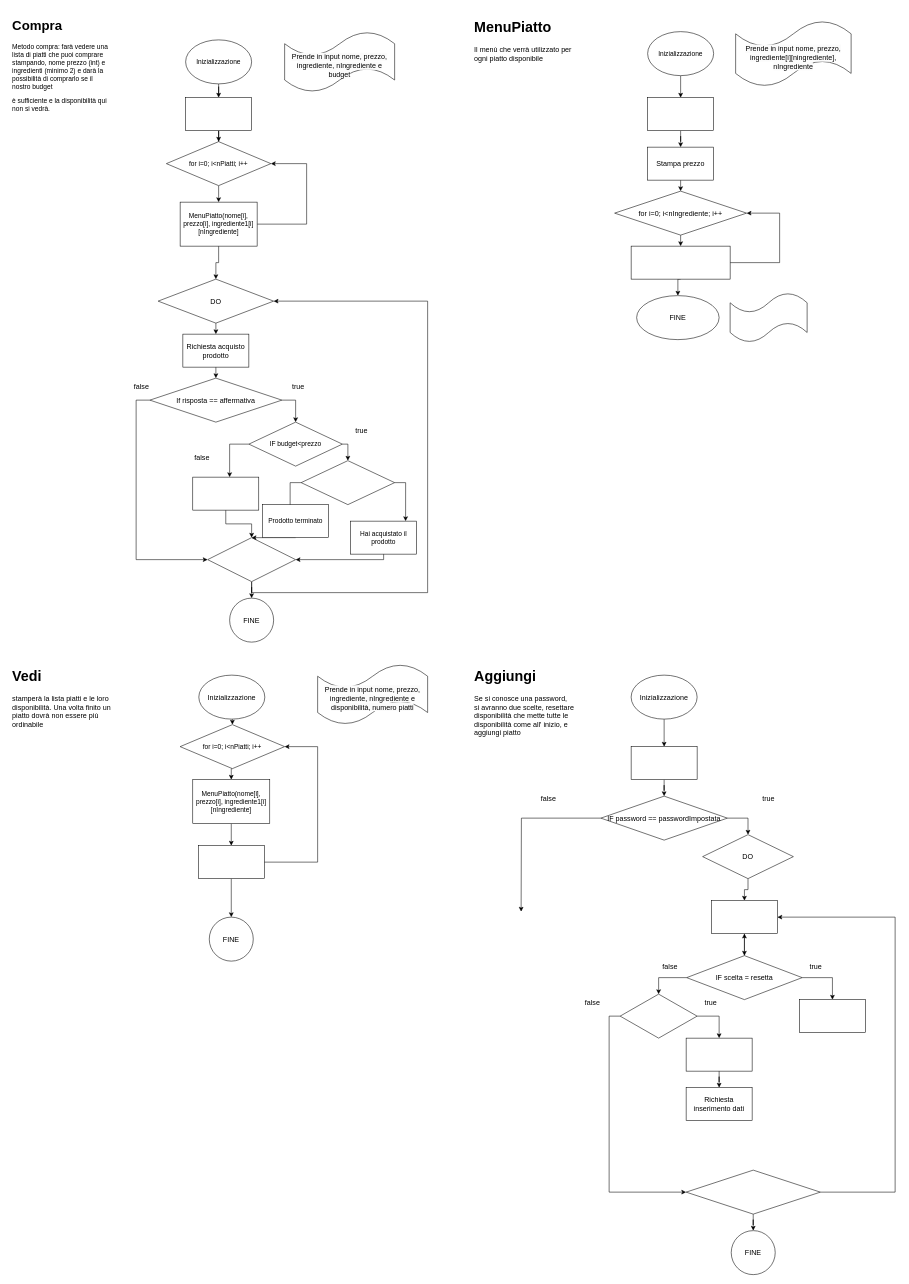
Image size: 909x1284. Some labels were removed from this diagram. The shapes that lost their labels are listed below. From the top down, each one's centre as x and y in pixels, then its label:
[218,114]: Output intestazione menu
[680,114]: Stampa nome
[680,262]: Stampa ingrediente[nIngrediente]
[768,317]: Non restituisce niente
[225,493]: Non puoi acquistare il prodotto
[348,482]: IF disponibilitàPiatto==0
[251,559]: while risposta esci
[664,763]: Richiesta inserimento password
[231,862]: Stampa disponibilità piatto
[744,917]: Richiesta scelta
[658,1016]: IF scelta == aggiungi
[832,1016]: disponibilità == disponibilità iniziale
[719,1054]: nPiatti ++
[753,1192]: While risposta == resetta || risposta == aggiungi
